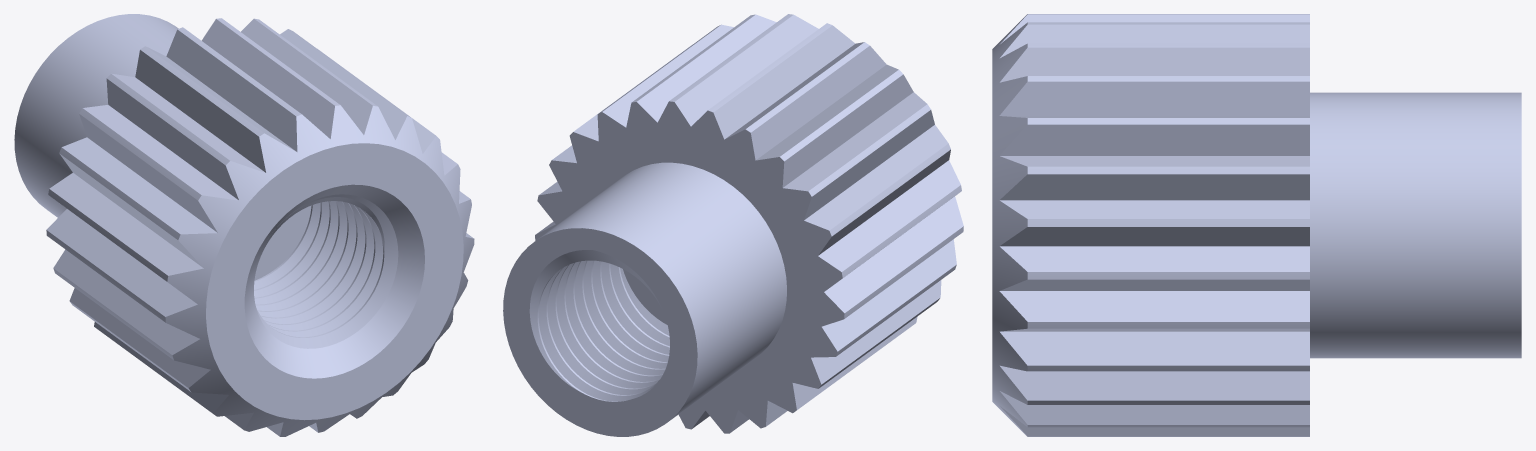
File: _2000_0025_0002_STEP_1__2_.obj
The picture shows the model from 3 angles, left to right: view 1: azimuth 30°, elevation 25°; view 2: azimuth 150°, elevation 25°; view 3: azimuth 270°, elevation 25°; orthographic projection. The views are drawn at different scales.
Parts seen in each view (by area): view 1: mesh4188, mesh4108, mesh4186, mesh4189, mesh4187, mesh4204, mesh4212, mesh4139, mesh4171, mesh4145, mesh4190, mesh4177 (+27 smaller); view 2: mesh4110, mesh4108, mesh4107, mesh4109, mesh4104, mesh4093, mesh4139, mesh4171, mesh4145, mesh4177, mesh4165, mesh4151 (+24 smaller); view 3: mesh4108, mesh4152, mesh4184, mesh4178, mesh4158, mesh4146, mesh4181, mesh4109, mesh4172, mesh4164, mesh4186, mesh4166 (+21 smaller).
Part boxes in pixels (box(x1,y1,x2,y2)): mesh4188: box(206, 143, 463, 420); mesh4108: box(20, 14, 178, 143); mesh4186: box(178, 105, 474, 297); mesh4189: box(244, 264, 419, 378); mesh4187: box(165, 258, 462, 436); mesh4204: box(258, 201, 374, 337); mesh4212: box(254, 201, 347, 310); mesh4139: box(46, 209, 197, 316); mesh4171: box(166, 29, 297, 151); mesh4145: box(49, 173, 203, 275); mesh4190: box(250, 184, 424, 292); mesh4177: box(201, 19, 334, 138); mesh4110: box(535, 101, 844, 433); mesh4108: box(537, 162, 781, 319); mesh4107: box(503, 228, 697, 436); mesh4109: box(667, 255, 786, 422); mesh4104: box(529, 250, 662, 401); mesh4093: box(565, 260, 668, 381); mesh4139: box(824, 196, 963, 313); mesh4171: box(713, 25, 855, 139); mesh4145: box(818, 160, 960, 271); mesh4177: box(675, 15, 818, 126); mesh4165: box(751, 46, 886, 160); mesh4151: box(804, 125, 948, 230); mesh4108: box(1310, 92, 1521, 319); mesh4152: box(1000, 331, 1309, 365); mesh4184: box(999, 81, 1309, 115); mesh4178: box(1000, 124, 1309, 155); mesh4158: box(999, 291, 1309, 321); mesh4146: box(1000, 365, 1309, 400); mesh4181: box(1000, 47, 1309, 82); mesh4109: box(1310, 319, 1521, 358); mesh4172: box(1000, 174, 1309, 200); mesh4164: box(1000, 246, 1309, 271); mesh4186: box(992, 14, 1027, 371); mesh4166: box(1000, 227, 1309, 246).
Bounding box in the file's own units: 0.00599 × 0.00599 × 0.0075.
